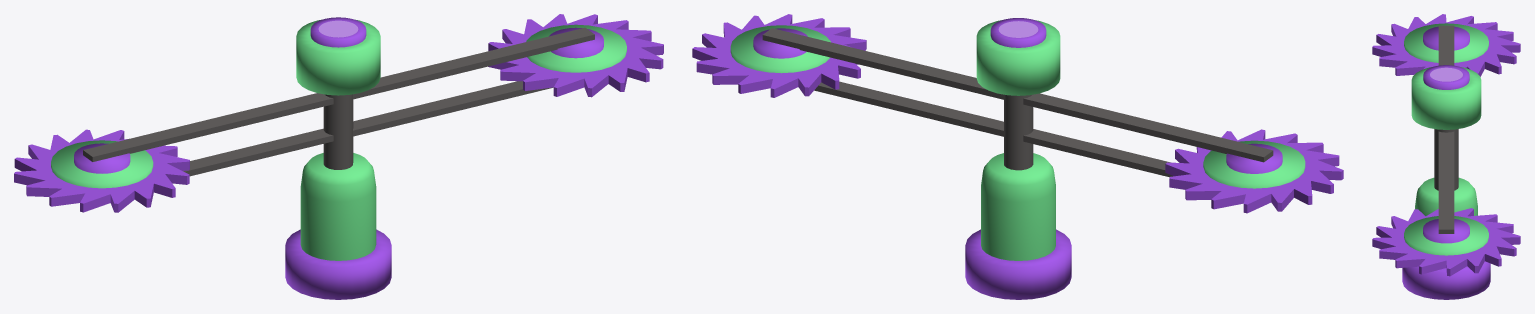
Rendered from Obstacle 17 V4.fbx.
The picture shows the model from 3 angles, left to right: view 1: azimuth 30°, elevation 25°; view 2: azimuth 150°, elevation 25°; view 3: azimuth 270°, elevation 25°; orthographic projection. The views are drawn at different scales.
Visible parts, largest first — view 1: O17 Part 3, O17 Part 4, O17 Part 2, O17 Part 1; view 2: O17 Part 3, O17 Part 4, O17 Part 2, O17 Part 1; view 3: O17 Part 3, O17 Part 1, O17 Part 2, O17 Part 4.
Boxes of the visible parts, x1=… form: O17 Part 3: x1=285, y1=17, x2=391, y2=299; O17 Part 4: x1=83, y1=27, x2=594, y2=176; O17 Part 2: x1=14, y1=129, x2=189, y2=212; O17 Part 1: x1=488, y1=14, x2=663, y2=97; O17 Part 3: x1=965, y1=18, x2=1071, y2=299; O17 Part 4: x1=762, y1=28, x2=1273, y2=177; O17 Part 2: x1=1165, y1=129, x2=1343, y2=213; O17 Part 1: x1=692, y1=14, x2=866, y2=97; O17 Part 3: x1=1402, y1=65, x2=1490, y2=299; O17 Part 1: x1=1372, y1=208, x2=1520, y2=276; O17 Part 2: x1=1372, y1=14, x2=1520, y2=76; O17 Part 4: x1=1434, y1=25, x2=1458, y2=233.
Size of the model in its own units: 308 by 116 by 75.75.
Materials: 1 (1 with a texture image).
